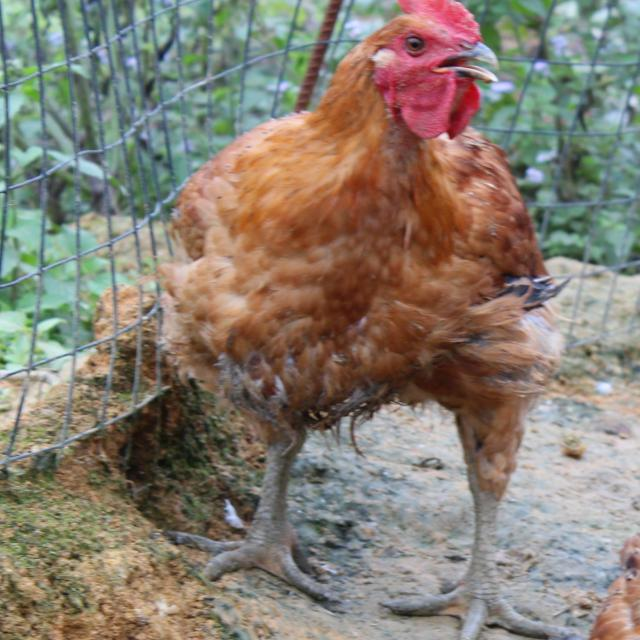hen: (160, 0, 579, 640)
